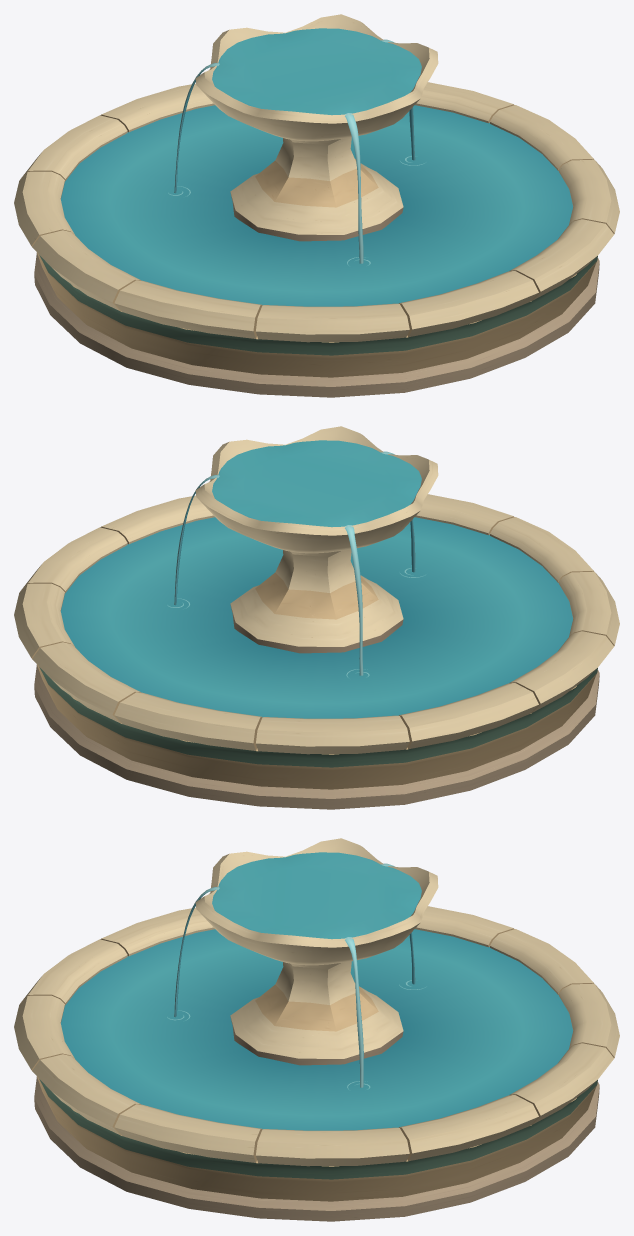
File: village-fountain.glb
3 views of the same model, one above another, from view 1: azimuth 30°, elevation 25°; view 2: azimuth 150°, elevation 25°; view 3: azimuth 270°, elevation 25° (orthographic).
Parts seen in each view (by area): view 1: Fountain | carved limestone, Water | gentle downward trickle; view 2: Fountain | carved limestone, Water | gentle downward trickle; view 3: Fountain | carved limestone, Water | gentle downward trickle.
Part boxes in pixels (<box>): Fountain | carved limestone: <box>14,14,619,397</box>; Water | gentle downward trickle: <box>61,28,572,306</box>; Fountain | carved limestone: <box>14,426,619,809</box>; Water | gentle downward trickle: <box>61,440,572,718</box>; Fountain | carved limestone: <box>14,838,619,1221</box>; Water | gentle downward trickle: <box>61,852,572,1130</box>.
Size of the model in its own units: 2.45 by 0.987 by 2.46.
2 materials, 1 textured.
